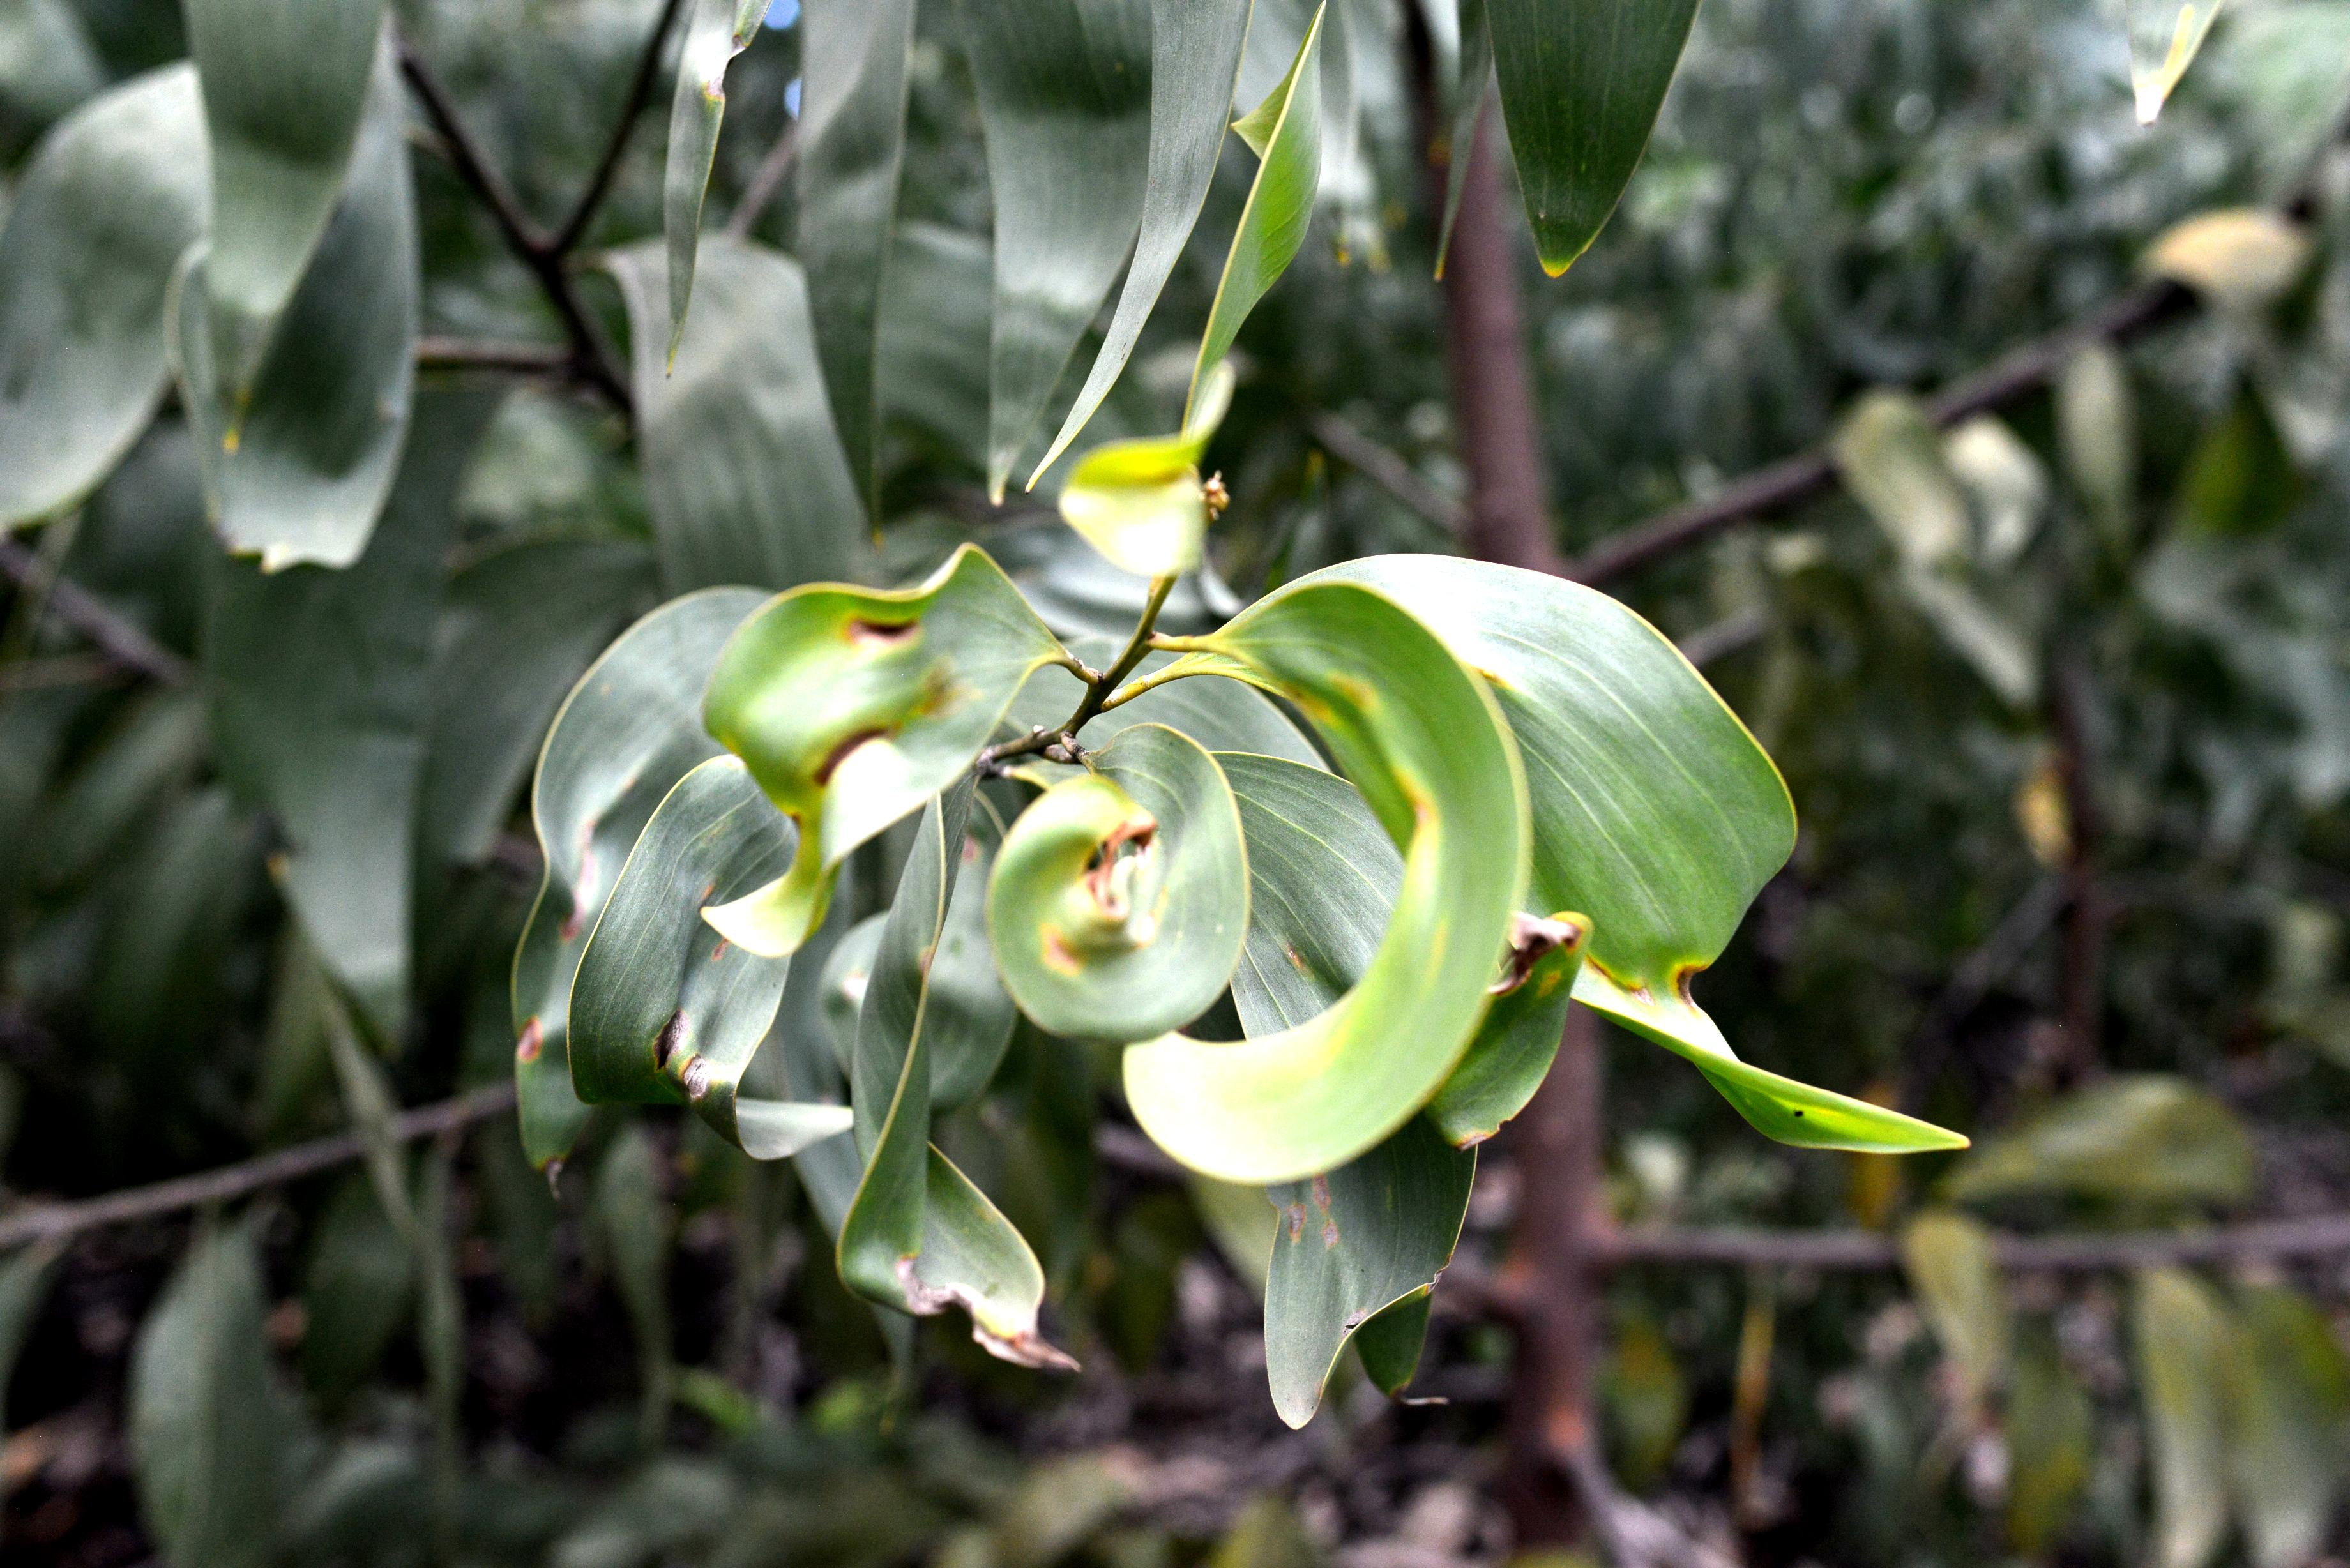Pasalora: (1255, 560, 1981, 1157), (1122, 581, 1529, 1188), (835, 768, 1099, 1393), (672, 542, 978, 964), (569, 756, 859, 1165), (990, 719, 1263, 1020), (1038, 387, 1230, 590)
